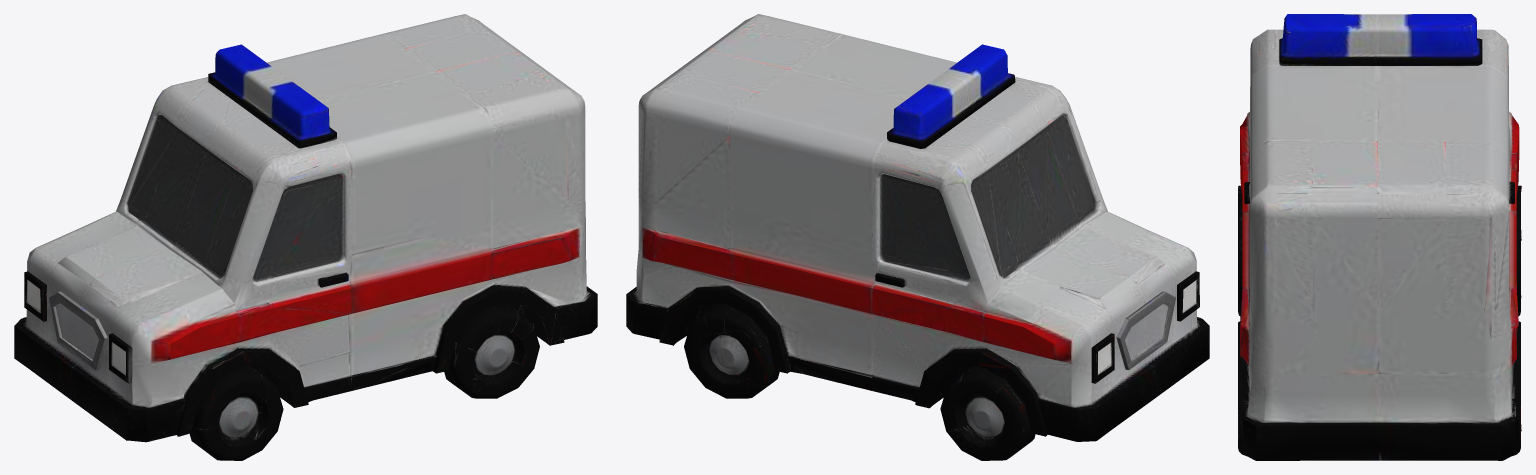
The model's file is 51-ambulance.glb.
3 renders of one model, left to right at view 1: azimuth 30°, elevation 25°; view 2: azimuth 150°, elevation 25°; view 3: azimuth 270°, elevation 25°, orthographic. The views are drawn at different scales.
Visible parts, largest first — view 1: geometry_0; view 2: geometry_0; view 3: geometry_0.
Part boxes in pixels (x1=…): geometry_0: x1=14, y1=14, x2=597, y2=460; geometry_0: x1=626, y1=14, x2=1209, y2=460; geometry_0: x1=1238, y1=14, x2=1521, y2=460.
Bounding box in the file's own units: 0.9502 × 0.6098 × 0.454.
Materials: 1 (1 with a texture image).
